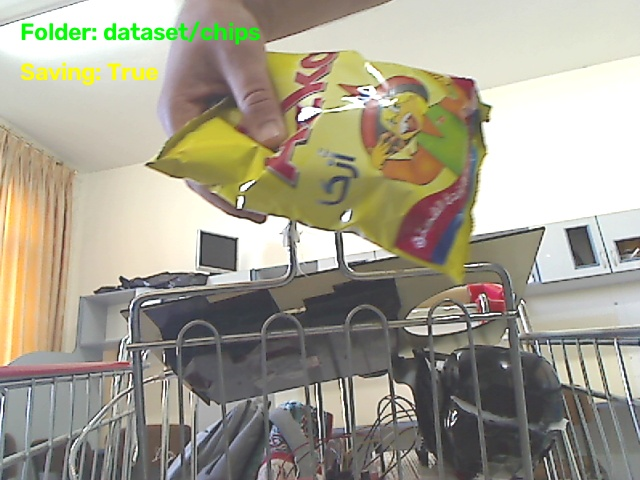chips: (147, 51, 488, 281)
